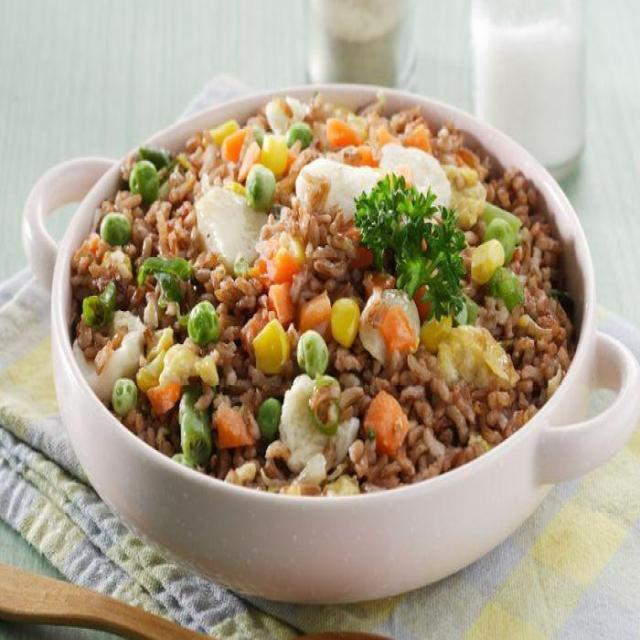Nasi Goreng: (68, 90, 573, 494)
